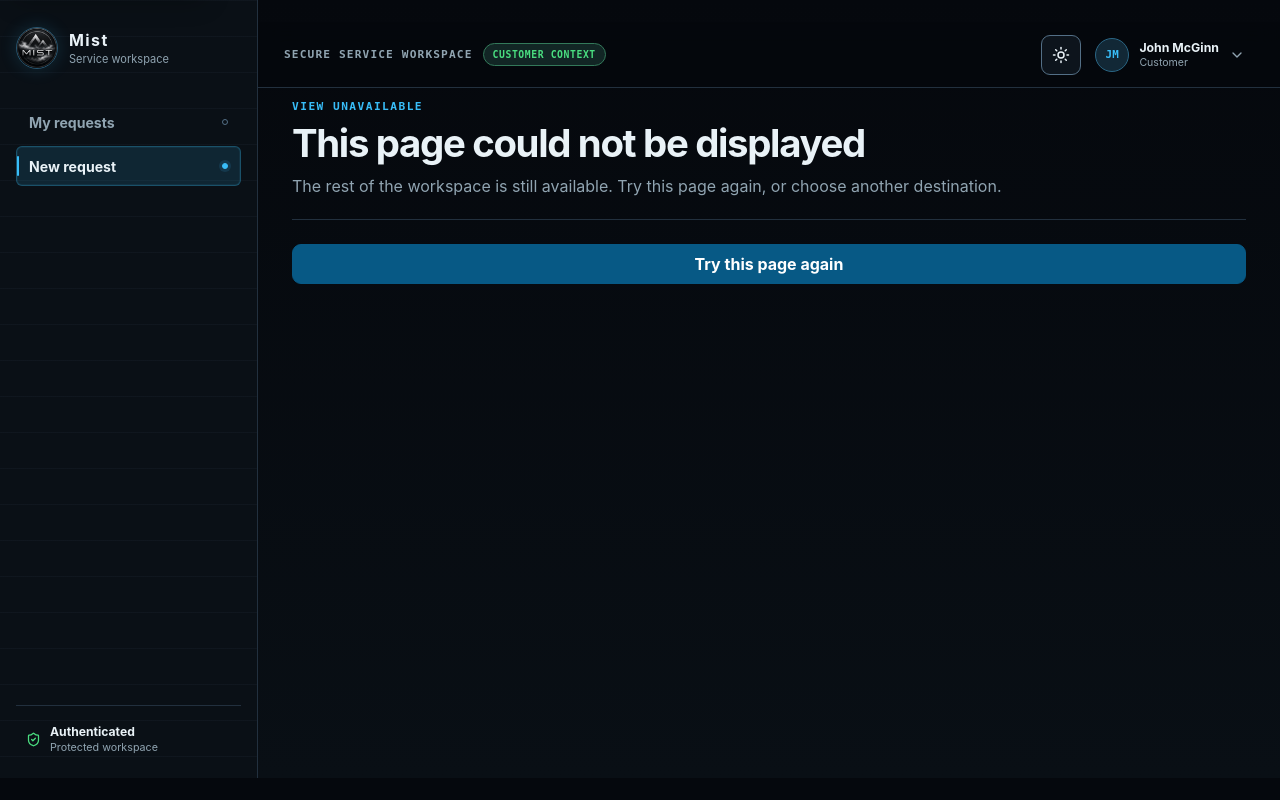
Scenario: workspace shell failure isolation › keeps navigation available and retries only the failed page
expect the heading "This page could not be displayed" is shown: met, box [292,120,865,166]
expect the link "My requests" is shown: met, box [29,114,228,130]
Click the button "Try this page again" at (769, 264), box [292,244,1246,284]
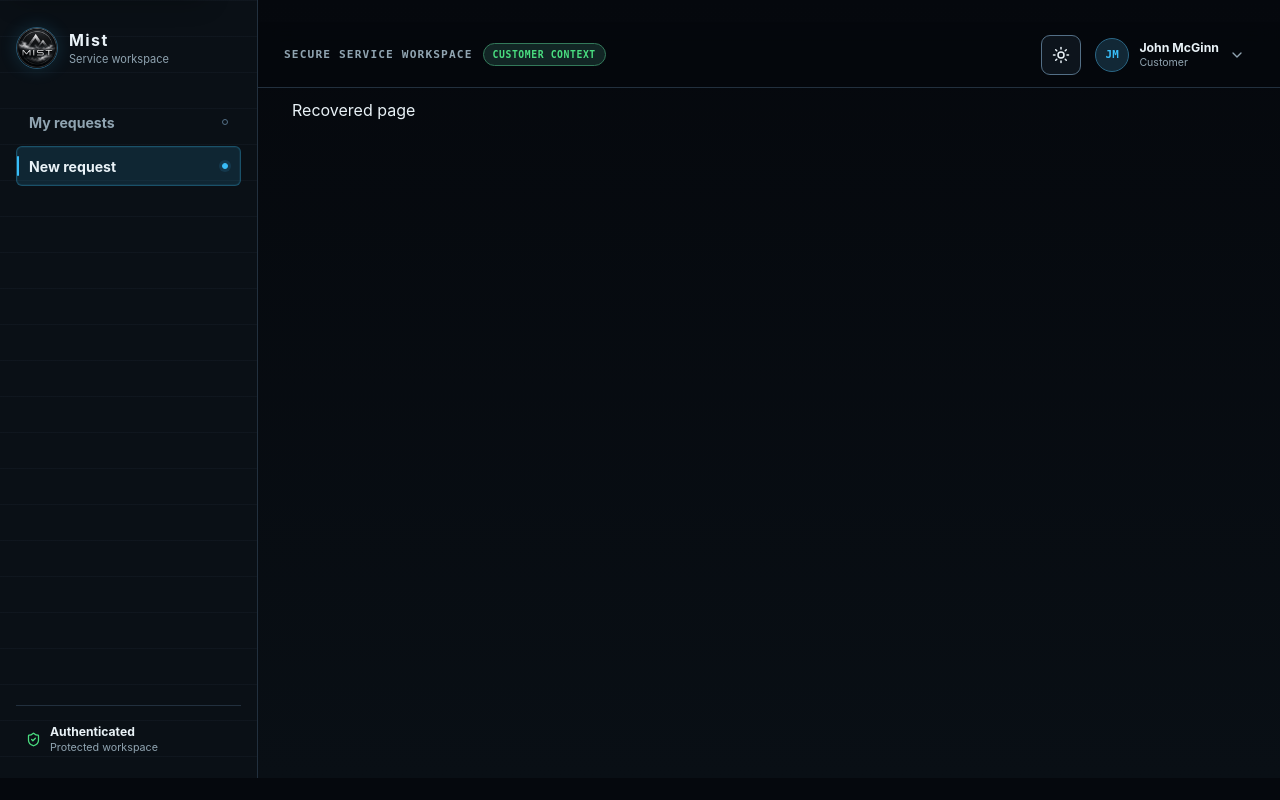
expect the link "My requests" is shown: met, box [29,114,228,130]
expect the text "Recovered page" is shown: met, box [292,100,415,120]
